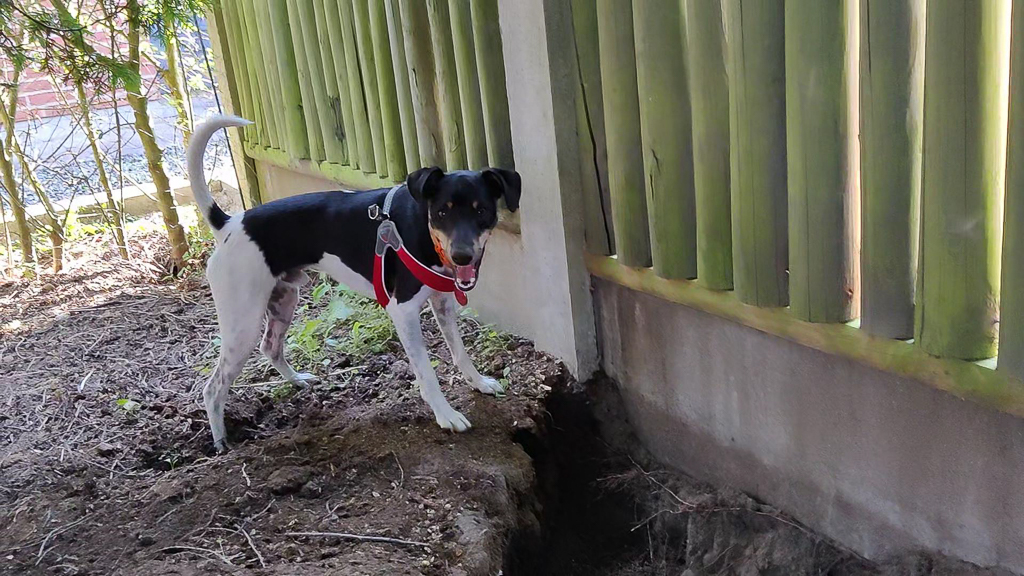Dog: (174, 106, 544, 465)
